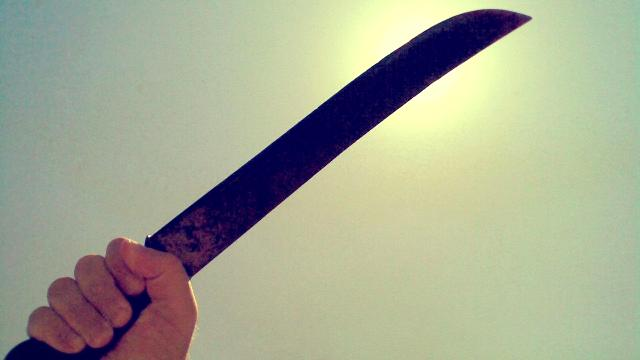long knife: (72, 6, 540, 328)
